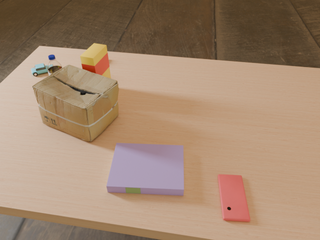book: (107, 143, 184, 195)
bottle: (47, 55, 63, 75)
box: (32, 65, 119, 141), (80, 43, 111, 78)
phone: (218, 174, 250, 221)
toy_car: (31, 63, 48, 76)
